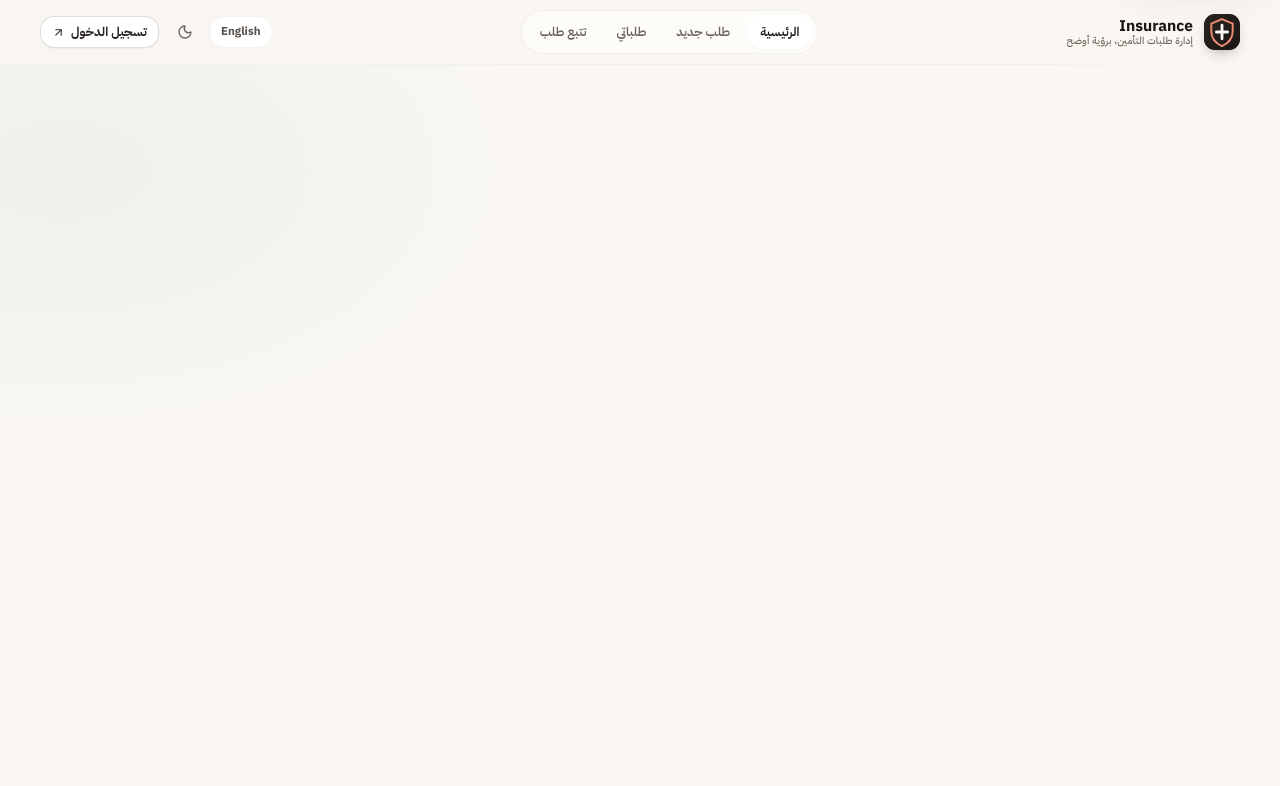
Phase 6 customer portal shell › switches the whole UI to English LTR
The image size is (1280, 786).
Click the button "English": coordinates (241, 32) [209,16,273,48]
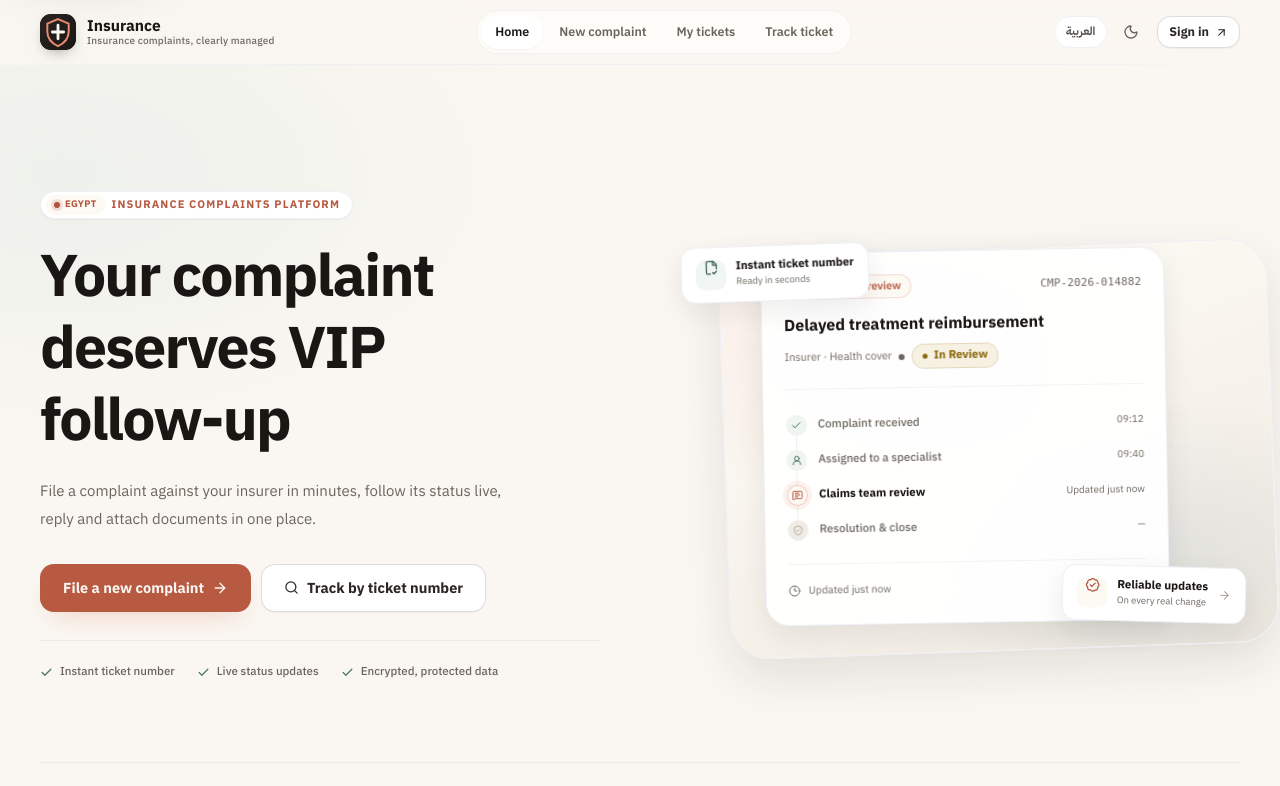
Check: the heading "Your complaint deserves VIP follow-up" is shown, box [40,232,434,464]
